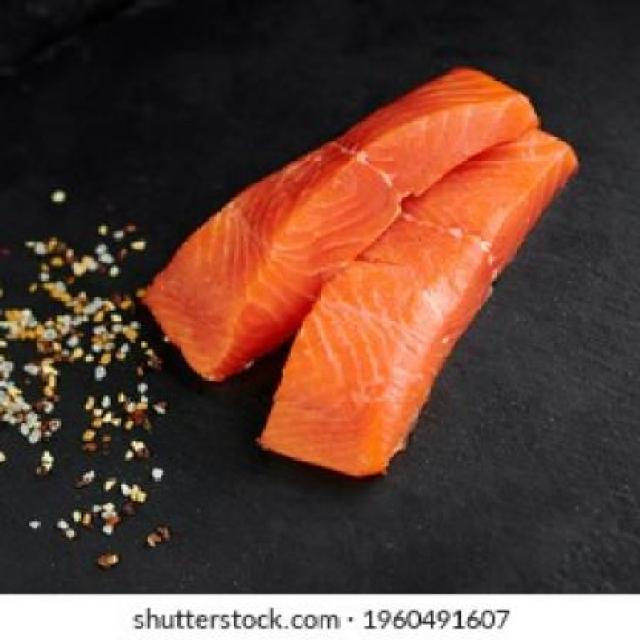salmon: (134, 43, 557, 393), (268, 112, 590, 492)
